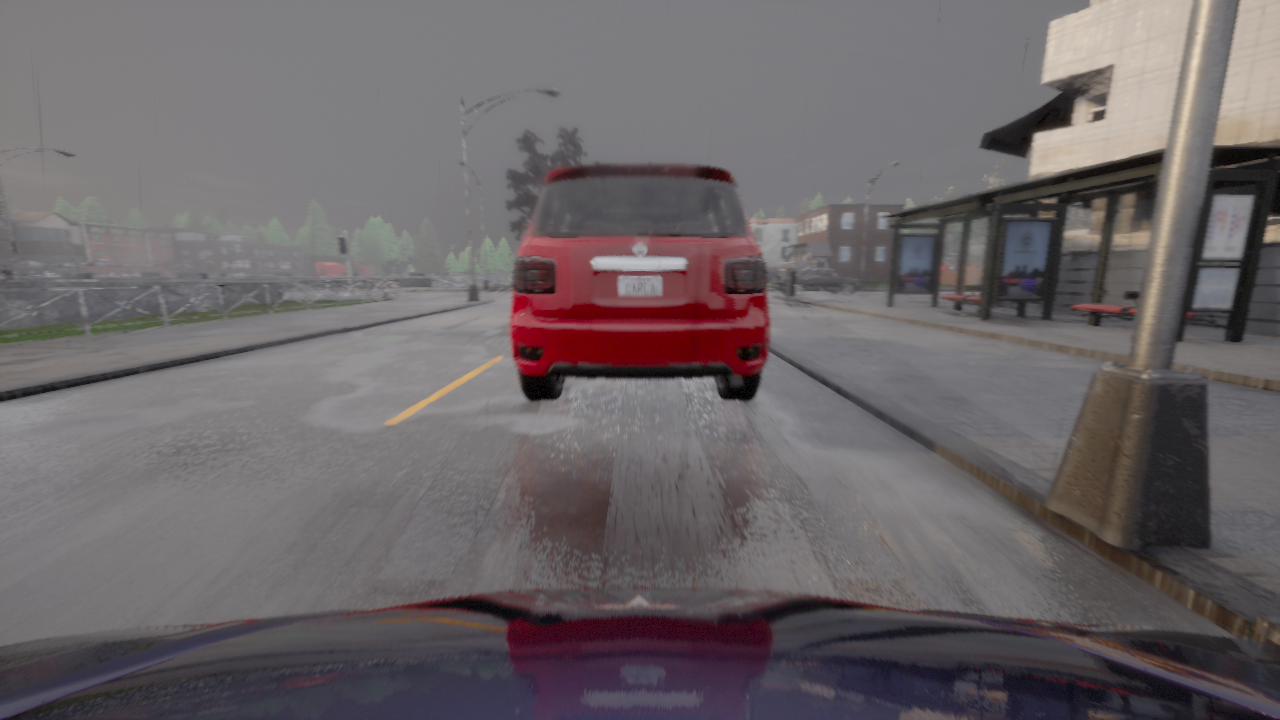cyclist: (0, 588, 1279, 719), (510, 163, 770, 400), (772, 268, 861, 294), (1267, 217, 1279, 224), (11, 279, 15, 280)
